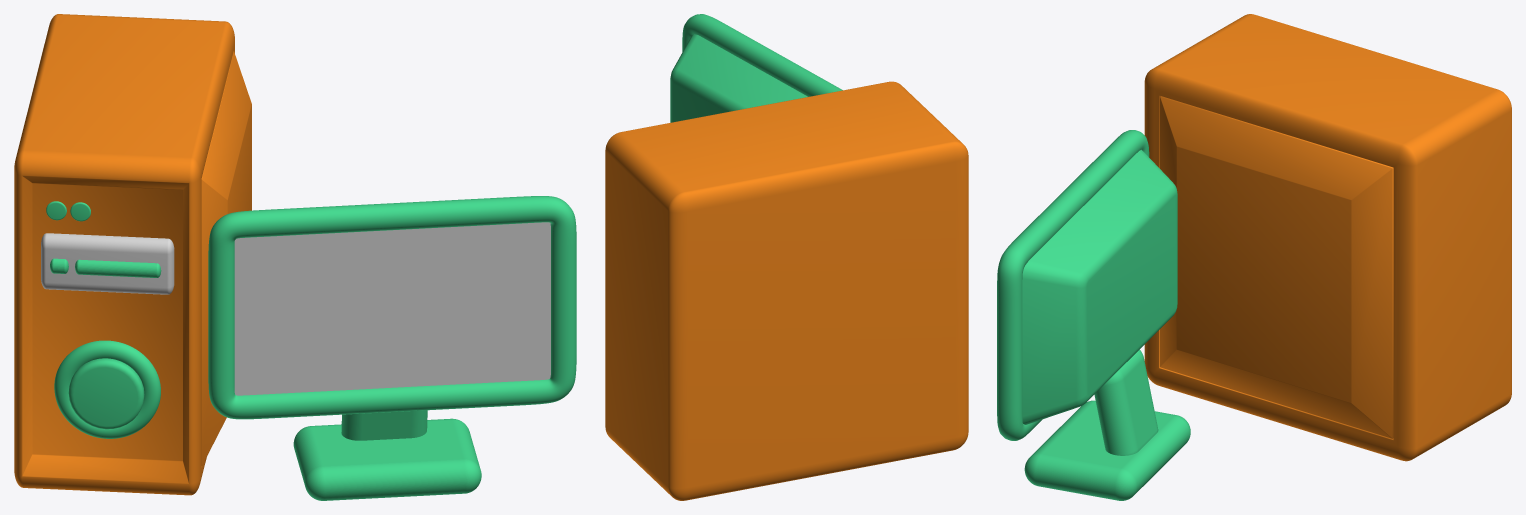
File: computer-3d-icon-1557179187119.glb
3 views of the same model, side by side, from view 1: azimuth 30°, elevation 25°; view 2: azimuth 150°, elevation 25°; view 3: azimuth 270°, elevation 25° (orthographic). The views are drawn at different scales.
Visible parts, largest first — view 1: PC, Screen & Base PC Button, Monitor & PC Button; view 2: PC, Monitor & PC Button; view 3: PC, Monitor & PC Button.
Part boxes in pixels (left/top/right/bottom): PC: left=14, top=14, right=251, bottom=495; Screen & Base PC Button: left=41, top=222, right=550, bottom=395; Monitor & PC Button: left=46, top=196, right=576, bottom=500; PC: left=605, top=81, right=968, bottom=500; Monitor & PC Button: left=670, top=14, right=842, bottom=122; PC: left=1144, top=14, right=1511, bottom=461; Monitor & PC Button: left=997, top=130, right=1190, bottom=500.
Size of the model in its own units: 3.35 by 2.51 by 3.66.
